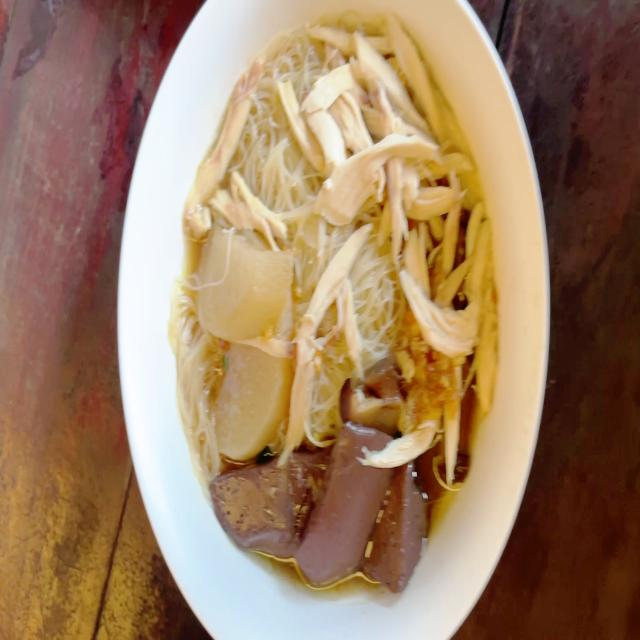boiled_chicken_blood_jelly: (313, 437, 385, 582), (221, 456, 311, 546), (388, 478, 422, 584)
chicken_shredded: (317, 27, 492, 454), (186, 63, 264, 225)
daikon_radish: (198, 236, 289, 336), (211, 354, 276, 460)
noodle: (166, 10, 500, 599)
